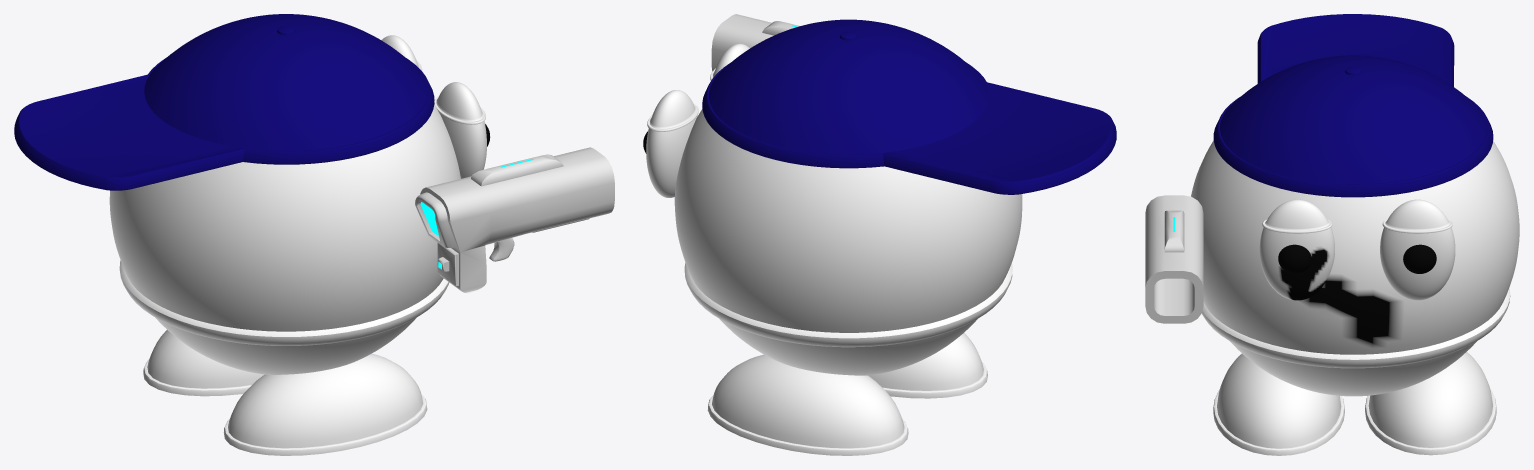
Rendered from Sawl.fbx.
The picture shows the model from 3 angles, left to right: view 1: azimuth 30°, elevation 25°; view 2: azimuth 150°, elevation 25°; view 3: azimuth 270°, elevation 25°; orthographic projection. The views are drawn at different scales.
Visible parts, largest first — view 1: Sawl, LaserGun; view 2: Sawl, LaserGun; view 3: Sawl, LaserGun.
Boxes of the visible parts, x1,y1,x2,y2 form: Sawl: [14, 14, 490, 455]; LaserGun: [415, 147, 614, 293]; Sawl: [643, 19, 1116, 455]; LaserGun: [711, 14, 799, 71]; Sawl: [1191, 14, 1519, 455]; LaserGun: [1145, 195, 1203, 323].
Bounding box in the file's own units: 308 × 228 × 225.
